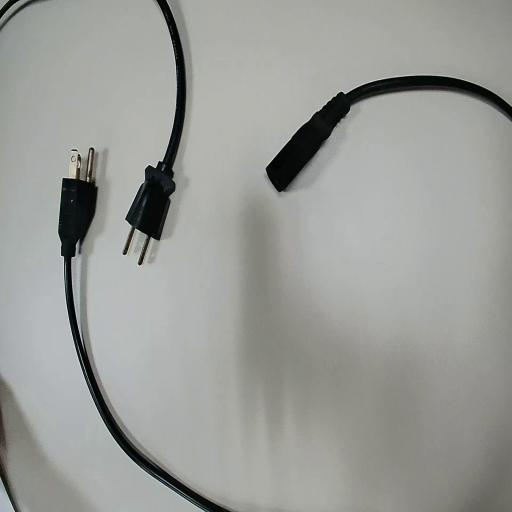wire: (59, 177, 228, 511), (267, 76, 511, 190), (127, 0, 185, 241)
